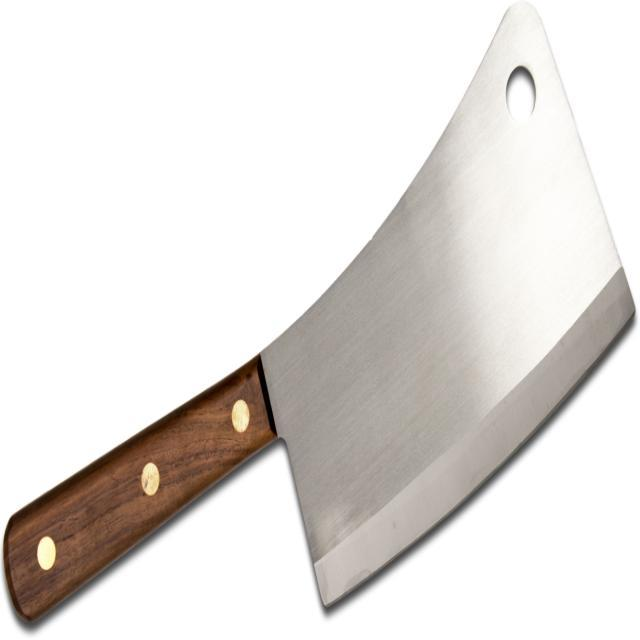Pisau: (0, 0, 640, 637)
